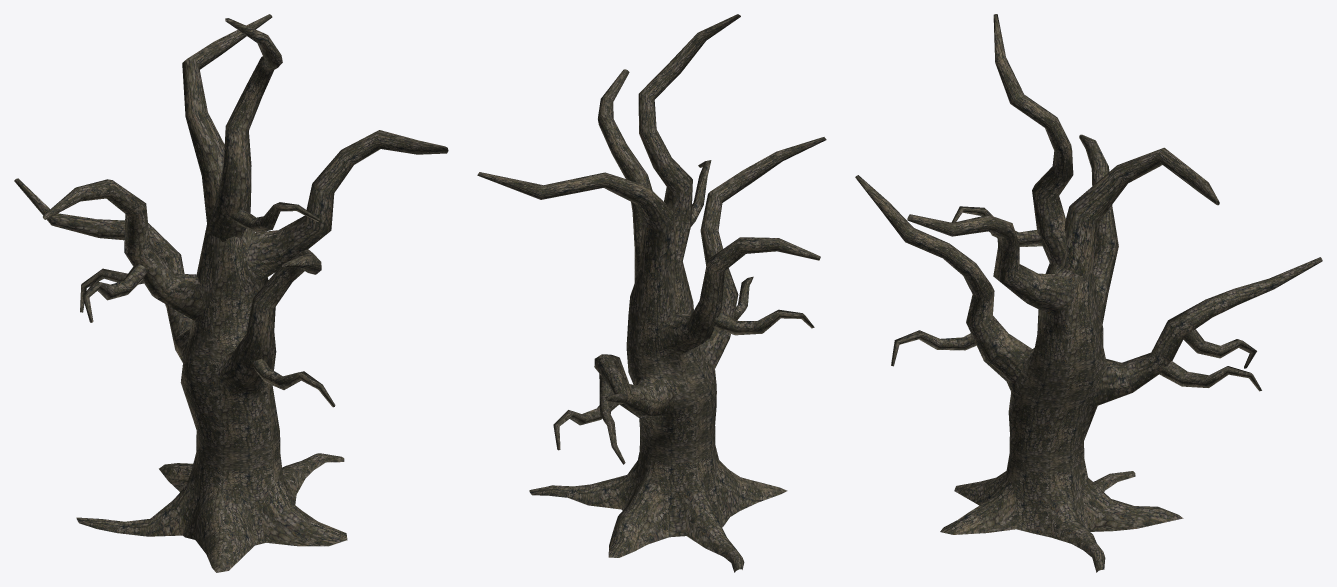
The model's file is EKH_ENTRANCE_PS_EN_TREE003__GX.fbx.
3 renders of one model, left to right at view 1: azimuth 30°, elevation 25°; view 2: azimuth 150°, elevation 25°; view 3: azimuth 270°, elevation 25°, orthographic. The views are drawn at different scales.
Visible parts, largest first — view 1: EKH_ENTRANCE_PS_EN_TREE003__GX; view 2: EKH_ENTRANCE_PS_EN_TREE003__GX; view 3: EKH_ENTRANCE_PS_EN_TREE003__GX.
Part boxes in pixels (bbox=[...]): EKH_ENTRANCE_PS_EN_TREE003__GX: bbox=[14, 14, 448, 572]; EKH_ENTRANCE_PS_EN_TREE003__GX: bbox=[477, 14, 826, 572]; EKH_ENTRANCE_PS_EN_TREE003__GX: bbox=[855, 14, 1322, 572].
Bounding box in the file's own units: 183569 × 306179 × 261167.
Materials: 3 (3 with a texture image).
